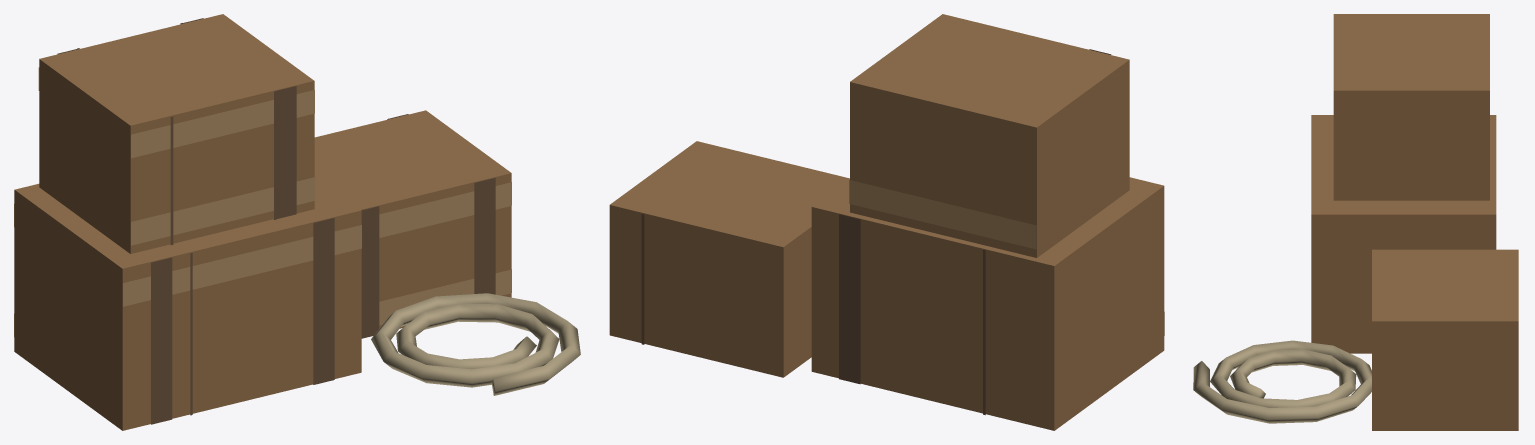
File: alc_dock_crates.glb
The picture shows the model from 3 angles, left to right: view 1: azimuth 30°, elevation 25°; view 2: azimuth 150°, elevation 25°; view 3: azimuth 270°, elevation 25°; orthographic projection. The views are drawn at different scales.
Visible parts, largest first — view 1: alc_dock_crates; view 2: alc_dock_crates; view 3: alc_dock_crates.
Part boxes in pixels (x1=…): alc_dock_crates: x1=14, y1=14, x2=580, y2=430; alc_dock_crates: x1=609, y1=14, x2=1164, y2=430; alc_dock_crates: x1=1193, y1=14, x2=1518, y2=430.
Size of the model in its own units: 1.33 by 0.86 by 1.03.
